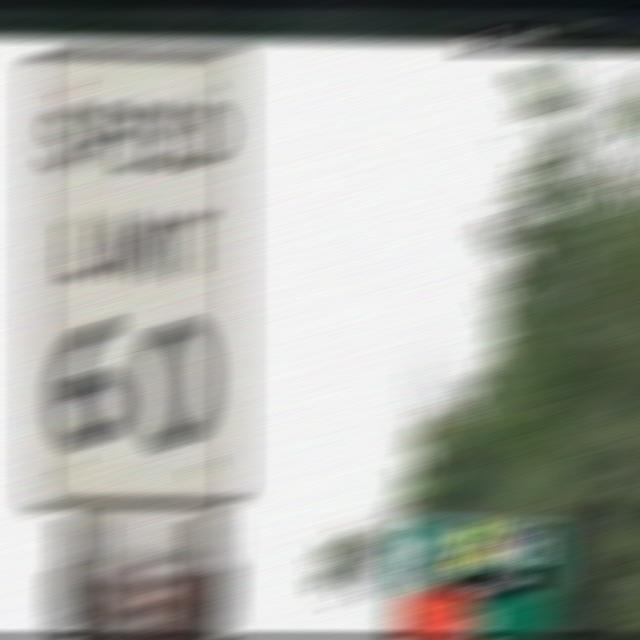speedLimit60: (25, 52, 245, 504)
